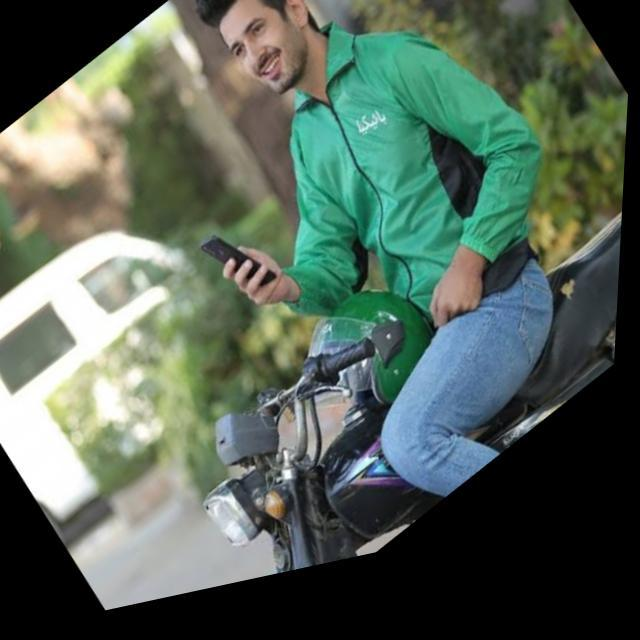Nonhelmet: (197, 0, 321, 102)
